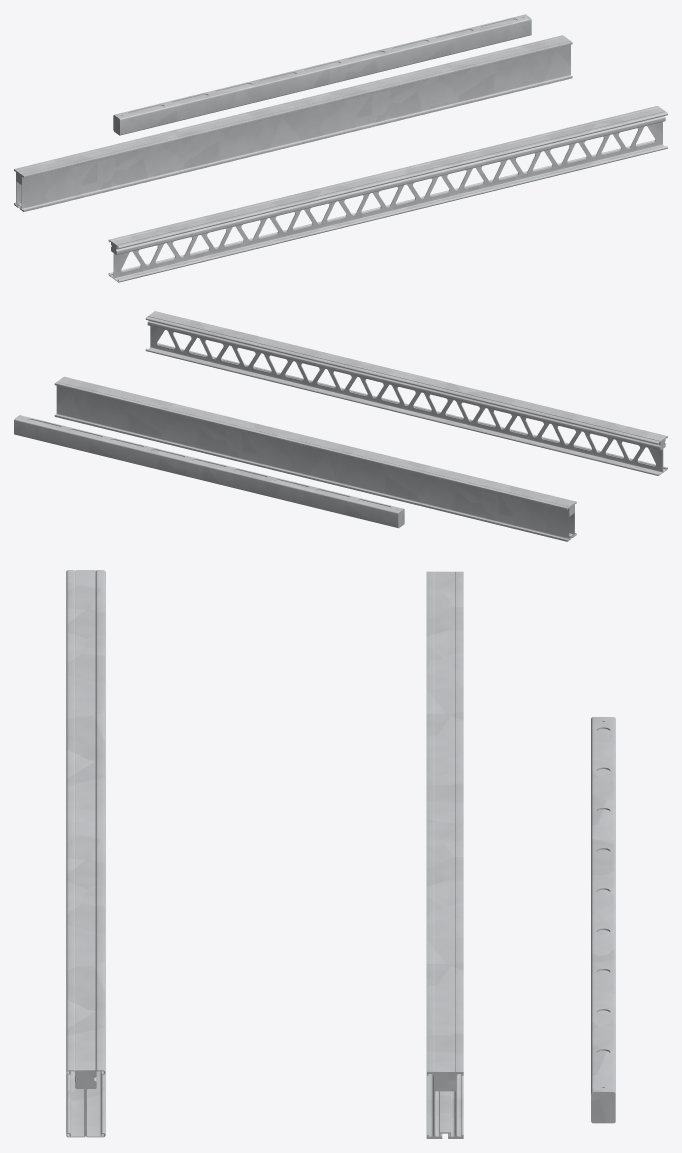
File: formwork-beams.glb
3 renders of one model, top to bottom at view 1: azimuth 30°, elevation 25°; view 2: azimuth 150°, elevation 25°; view 3: azimuth 270°, elevation 25°, orthographic. The views are drawn at different scales.
Parts seen in each view (by area): view 1: AllslimBeam, PrimarySteelBeam, Steel-TimberSecondaryBeam; view 2: AllslimBeam, PrimarySteelBeam, Steel-TimberSecondaryBeam; view 3: PrimarySteelBeam, AllslimBeam, Steel-TimberSecondaryBeam.
Part boxes in pixels (left/top/right/bottom): AllslimBeam: left=14, top=35, right=572, bottom=211; PrimarySteelBeam: left=108, top=106, right=667, bottom=282; Steel-TimberSecondaryBeam: left=113, top=14, right=531, bottom=135; AllslimBeam: left=54, top=376, right=576, bottom=541; PrimarySteelBeam: left=145, top=311, right=667, bottom=475; Steel-TimberSecondaryBeam: left=14, top=415, right=404, bottom=528; PrimarySteelBeam: left=66, top=570, right=105, bottom=1137; AllslimBeam: left=426, top=571, right=463, bottom=1138; Steel-TimberSecondaryBeam: left=591, top=717, right=615, bottom=1123.
Bounding box in the file's own units: 2.42 × 0.1508 × 1.11.
Materials: 1 (1 with a texture image).
